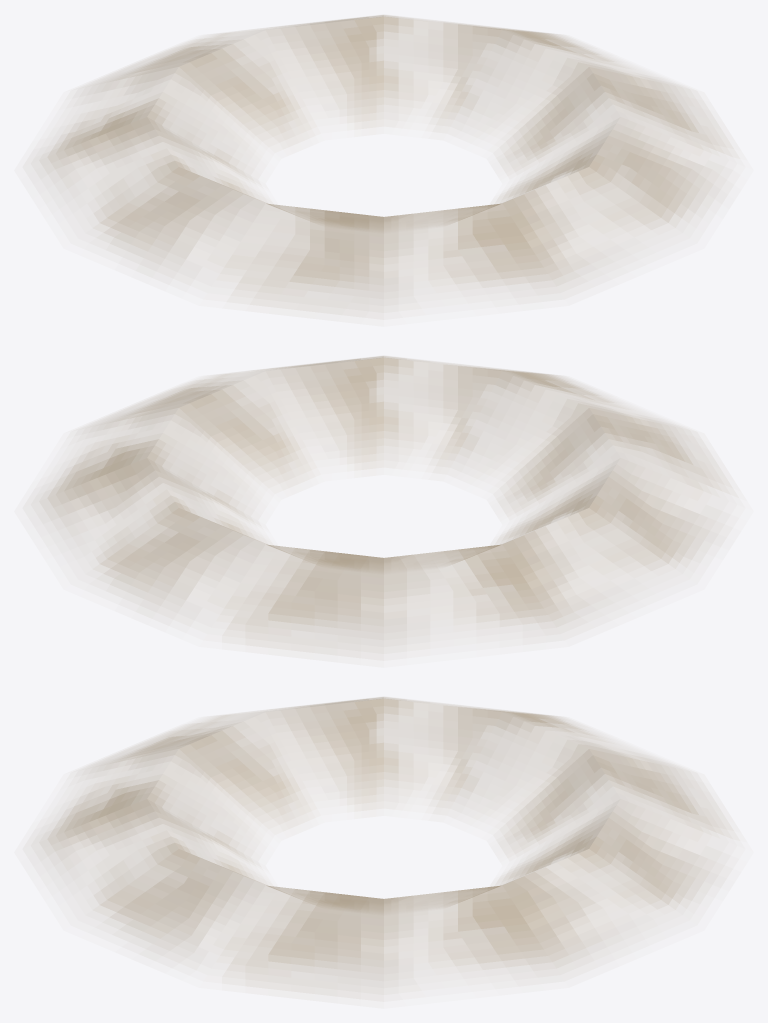
File: dust.glb
The picture shows the model from 3 angles, top to bottom: view 1: azimuth 30°, elevation 25°; view 2: azimuth 150°, elevation 25°; view 3: azimuth 270°, elevation 25°; orthographic projection.
Parts seen in each view (by area): view 1: dust; view 2: dust; view 3: dust.
Boxes of the visible parts, x1,y1,x2,y2 form: dust: [31, 15, 733, 316]; dust: [31, 356, 732, 657]; dust: [31, 697, 733, 998].
Bounding box in the file's own units: 50 × 5 × 50.
Materials: 1 (1 with a texture image).
